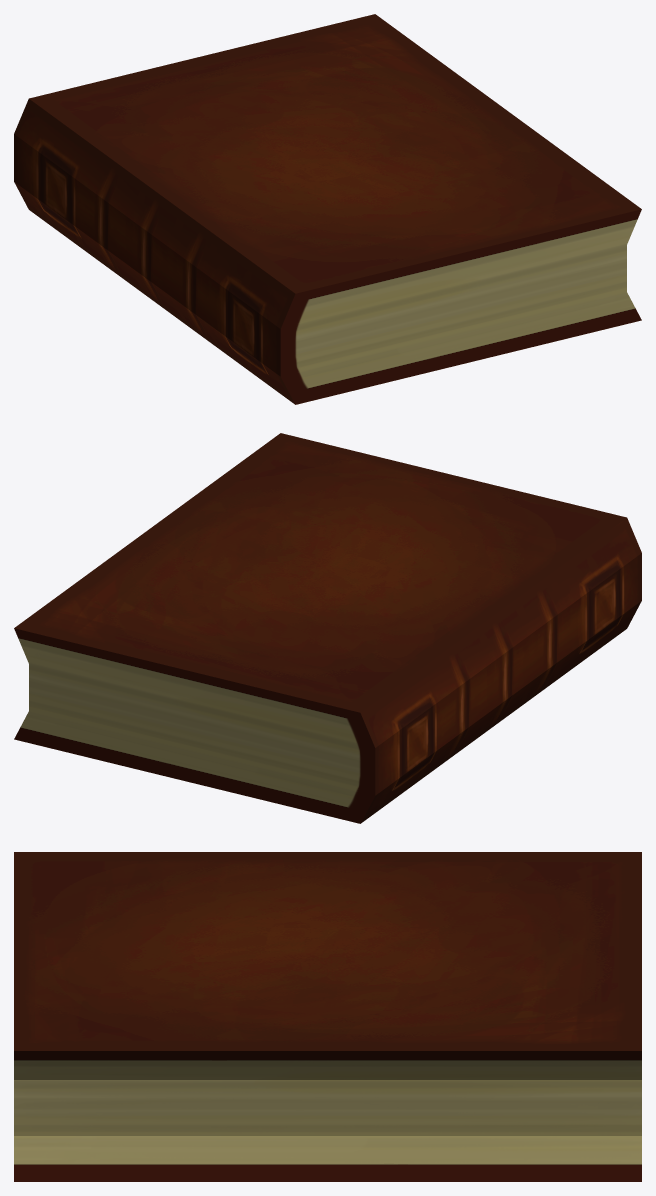
Rendered from book low.FBX.
The picture shows the model from 3 angles, top to bottom: view 1: azimuth 30°, elevation 25°; view 2: azimuth 150°, elevation 25°; view 3: azimuth 270°, elevation 25°; orthographic projection. The views are drawn at different scales.
Visible parts, largest first — view 1: BookMesh; view 2: BookMesh; view 3: BookMesh.
Part boxes in pixels (box(x1,y1,x2,y2)): BookMesh: box(14, 14, 641, 404); BookMesh: box(14, 433, 641, 823); BookMesh: box(14, 852, 641, 1181).
Size of the model in its own units: 15.64 by 4.6 by 20.
